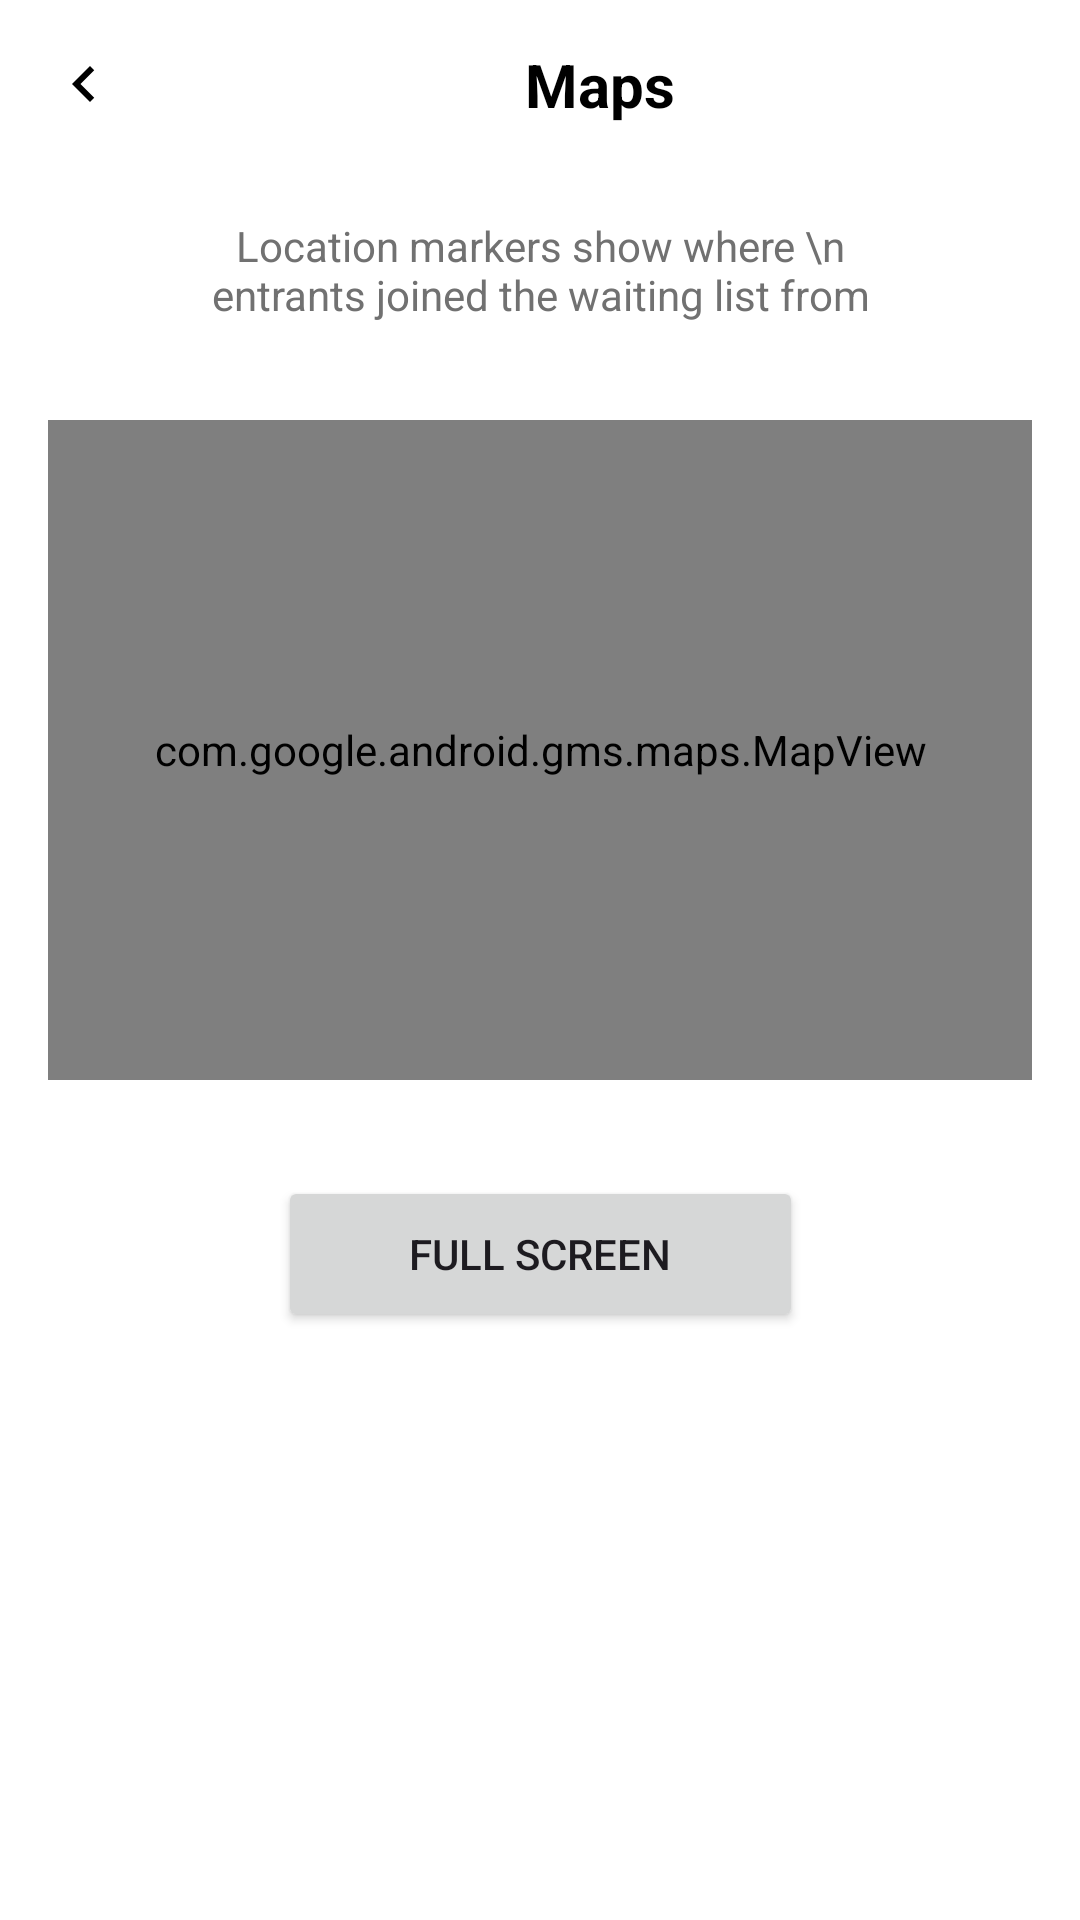

Screen size 1080px x 1920px. Icon name, then its center in pixels as [x,y]:
arrow left: [83,84]
